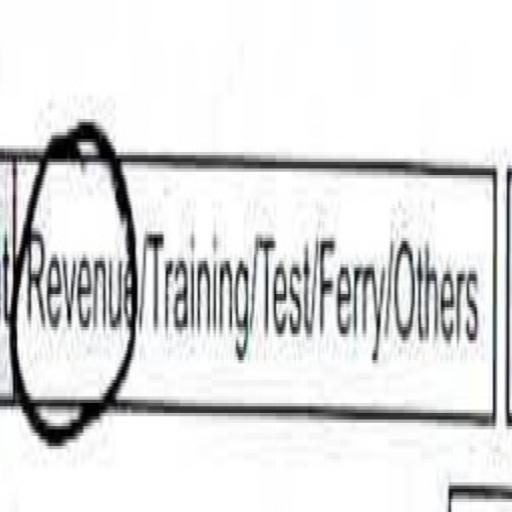check: (9, 107, 138, 456)
